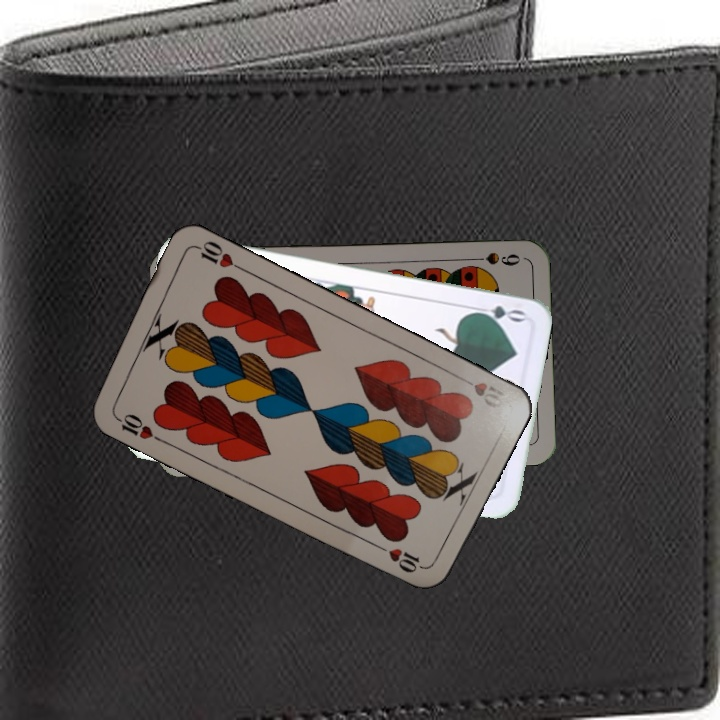GO: (467, 301, 527, 325)
H10: (454, 372, 511, 411), (109, 409, 164, 445)
S9: (464, 248, 523, 268)
